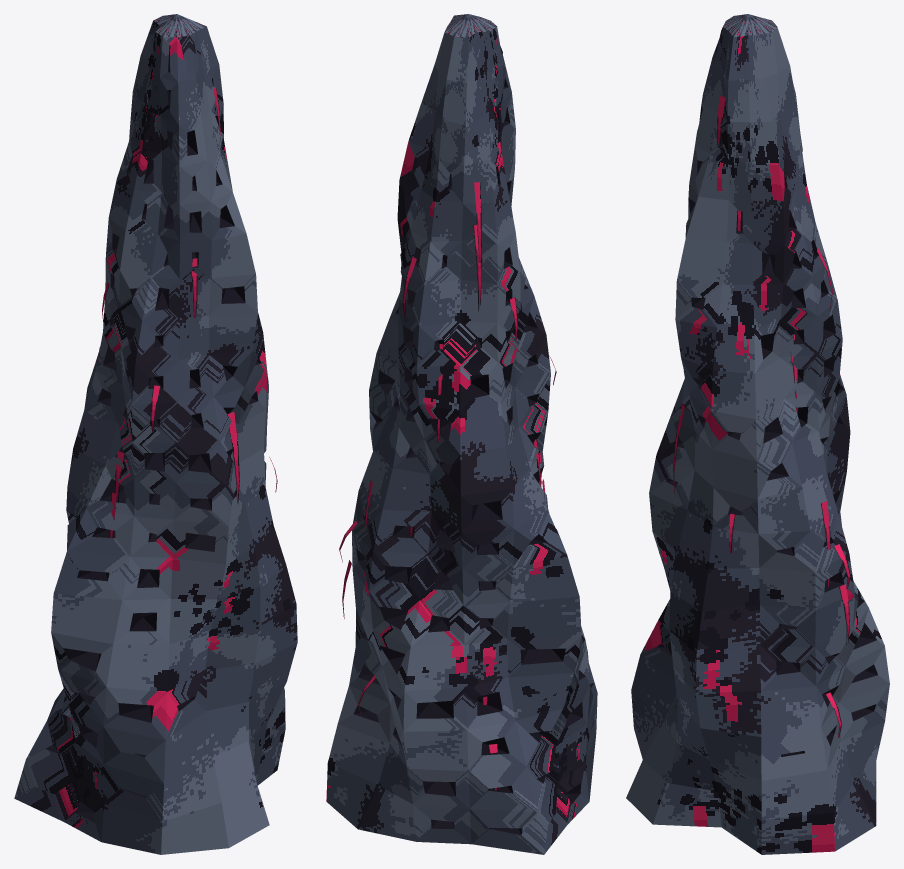
Rendered from NIE-07_Aguja_de_Colmena.gltf.
3 renders of one model, left to right at view 1: azimuth 30°, elevation 25°; view 2: azimuth 150°, elevation 25°; view 3: azimuth 270°, elevation 25°, orthographic.
Visible parts, largest first — view 1: NIE-07_Aguja_de_Colmena; view 2: NIE-07_Aguja_de_Colmena; view 3: NIE-07_Aguja_de_Colmena.
Boxes of the visible parts, x1,y1,x2,y2 form: NIE-07_Aguja_de_Colmena: (14, 14, 297, 854); NIE-07_Aguja_de_Colmena: (326, 14, 597, 854); NIE-07_Aguja_de_Colmena: (626, 14, 889, 854).
Bounding box in the file's own units: 2.38 × 7.62 × 2.31.
1 material, 1 textured.
